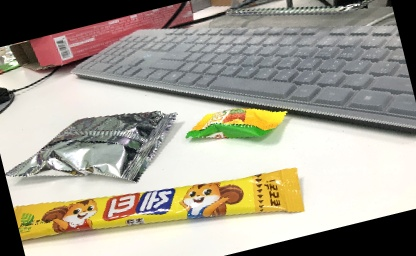br: (0, 94, 193, 213)
jeli: (181, 92, 293, 157)
jt: (14, 137, 311, 256)
